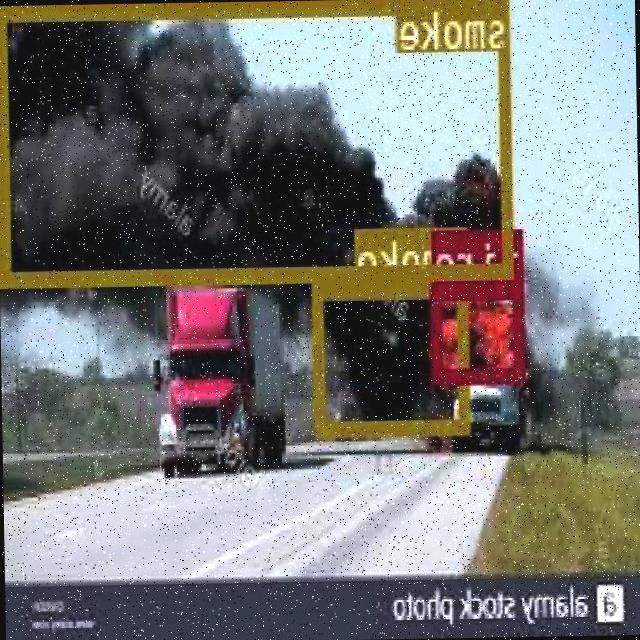smoke: (0, 0, 517, 282), (314, 276, 472, 434)
